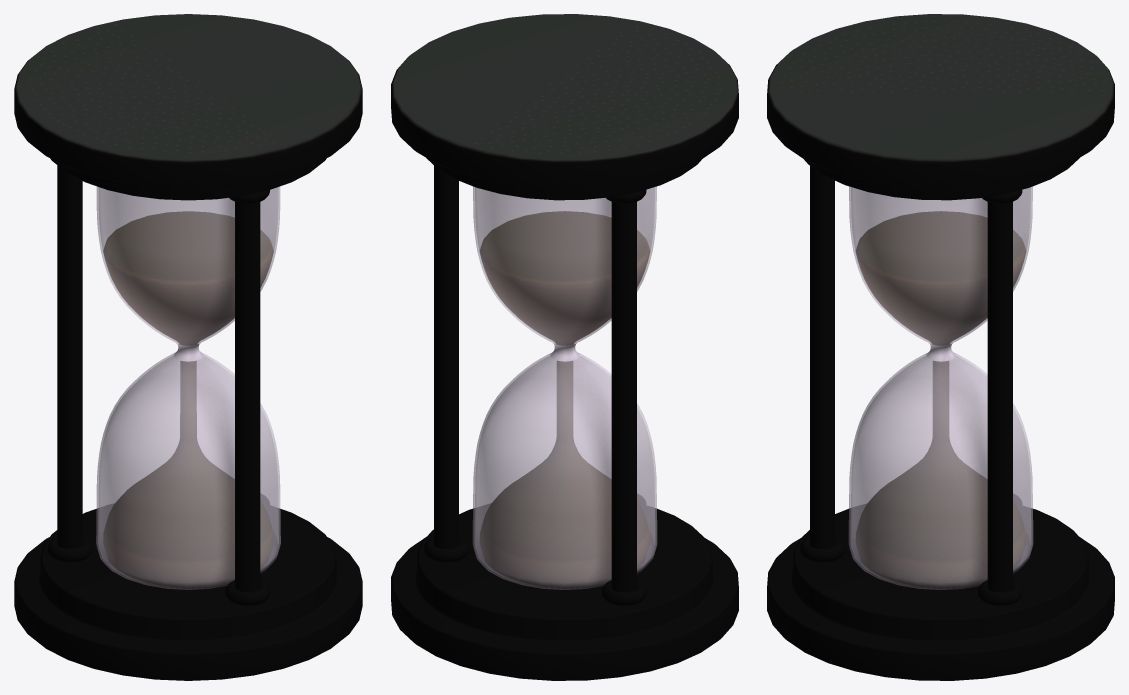
File: Hourglass.gltf
The picture shows the model from 3 angles, left to right: view 1: azimuth 30°, elevation 25°; view 2: azimuth 150°, elevation 25°; view 3: azimuth 270°, elevation 25°; orthographic projection.
Visible parts, largest first — view 1: hourglass_frame, hourglass_glass, hourglass_sand; view 2: hourglass_frame, hourglass_glass, hourglass_sand; view 3: hourglass_frame, hourglass_glass, hourglass_sand.
Part boxes in pixels (x1,y1,x2,y2): hourglass_frame: (14,14,362,680); hourglass_glass: (96,186,280,589); hourglass_sand: (103,211,273,589); hourglass_frame: (391,14,738,680); hourglass_glass: (472,186,657,589); hourglass_sand: (480,211,649,589); hourglass_frame: (767,14,1114,680); hourglass_glass: (848,186,1033,589); hourglass_sand: (856,211,1025,589).
Bounding box in the file's own units: 0.8355 × 1.39 × 0.8355.
2 materials, 2 textured.
